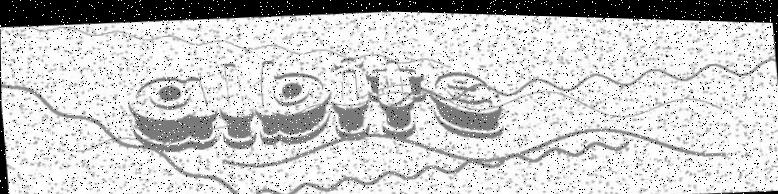a: (124, 70, 220, 155)
b: (249, 53, 334, 148)
e: (428, 63, 506, 140)
i: (328, 54, 373, 140)
l: (214, 59, 258, 150)
t: (363, 53, 431, 139)
